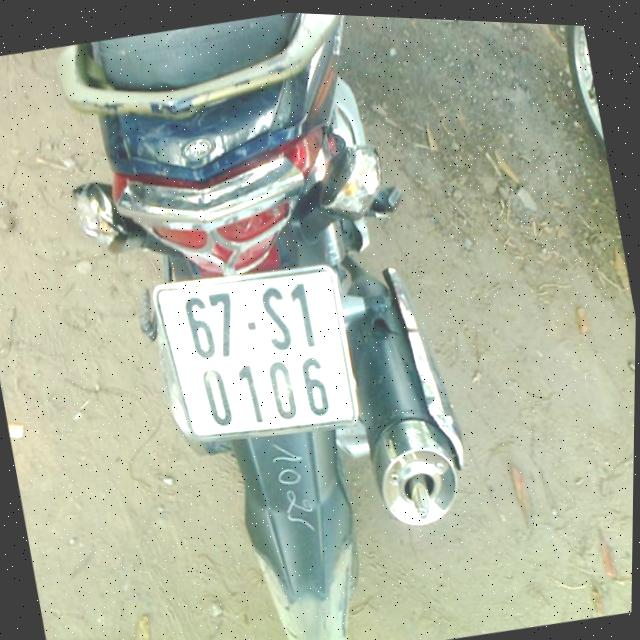motorcycle: (37, 2, 515, 640)
plate: (147, 249, 368, 461)
